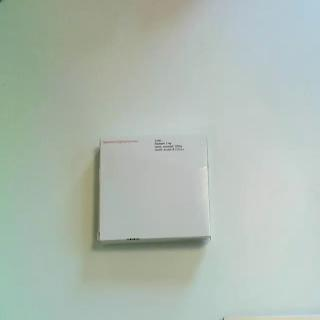valium5mg: (97, 133, 214, 247)
